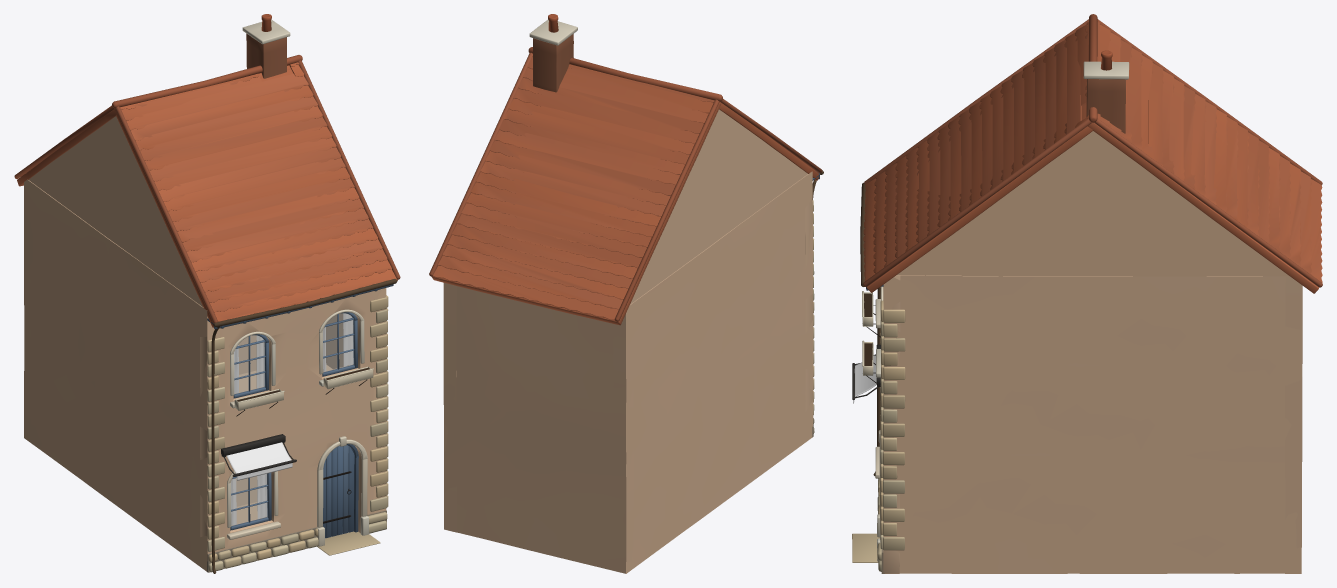
The model's file is Opposite_Opposite2_2.glb.
3 renders of one model, left to right at view 1: azimuth 30°, elevation 25°; view 2: azimuth 150°, elevation 25°; view 3: azimuth 270°, elevation 25°, orthographic. The views are drawn at different scales.
Visible parts, largest first — view 1: Sammel Putz, Sammel Stein, Sammel Lack, Glas, Sammel Metall, Sammel Putz innen, Vorhang Leinen, Markisenstoff Petrol, Sammel Ziegel; view 2: Sammel Putz, Sammel Stein, Sammel Ziegel; view 3: Sammel Putz, Sammel Stein, Sammel Ziegel, Sammel Metall.
Boxes of the visible parts, x1,y1,x2,y2 form: Sammel Putz: (24,14,386,572); Sammel Stein: (14,55,400,572); Sammel Lack: (207,284,393,538); Glas: (231,313,353,525); Sammel Metall: (211,279,397,573); Sammel Putz innen: (236,313,348,523); Vorhang Leinen: (231,313,353,525); Markisenstoff Petrol: (226,442,292,480); Sammel Ziegel: (246,33,286,78); Sammel Putz: (443,14,813,573); Sammel Stein: (429,47,822,433); Sammel Ziegel: (533,34,573,92); Sammel Putz: (864,50,1302,573); Sammel Stein: (852,14,1322,571); Sammel Ziegel: (1086,79,1125,133); Sammel Metall: (852,182,880,475).
Bounding box in the file's own units: 4.76 × 10.75 × 9.
